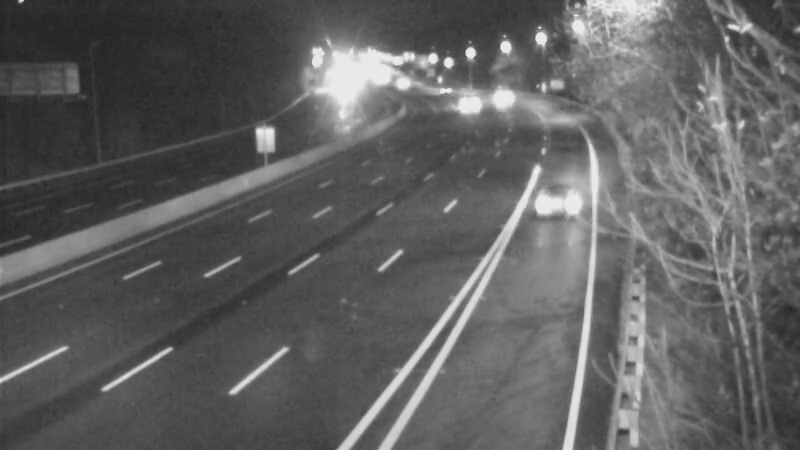vehicle: (512, 165, 592, 245), (414, 65, 464, 115), (476, 72, 526, 122), (441, 79, 491, 129)
